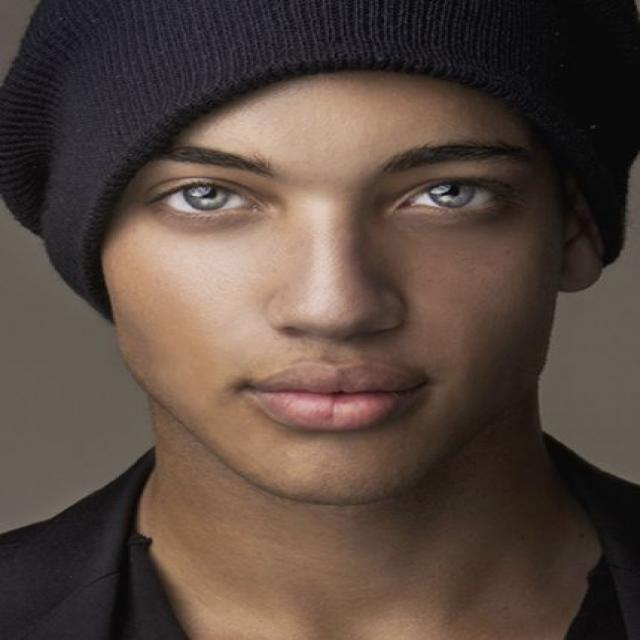earlobe: (561, 178, 605, 294)
